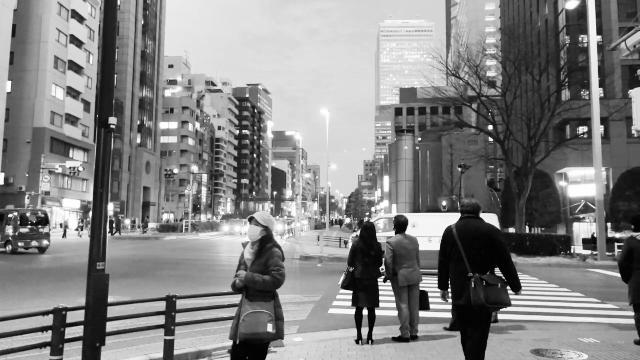berdiri: (336, 212, 386, 344), (383, 209, 427, 350)
berjalan: (436, 192, 524, 360), (222, 200, 280, 360)
